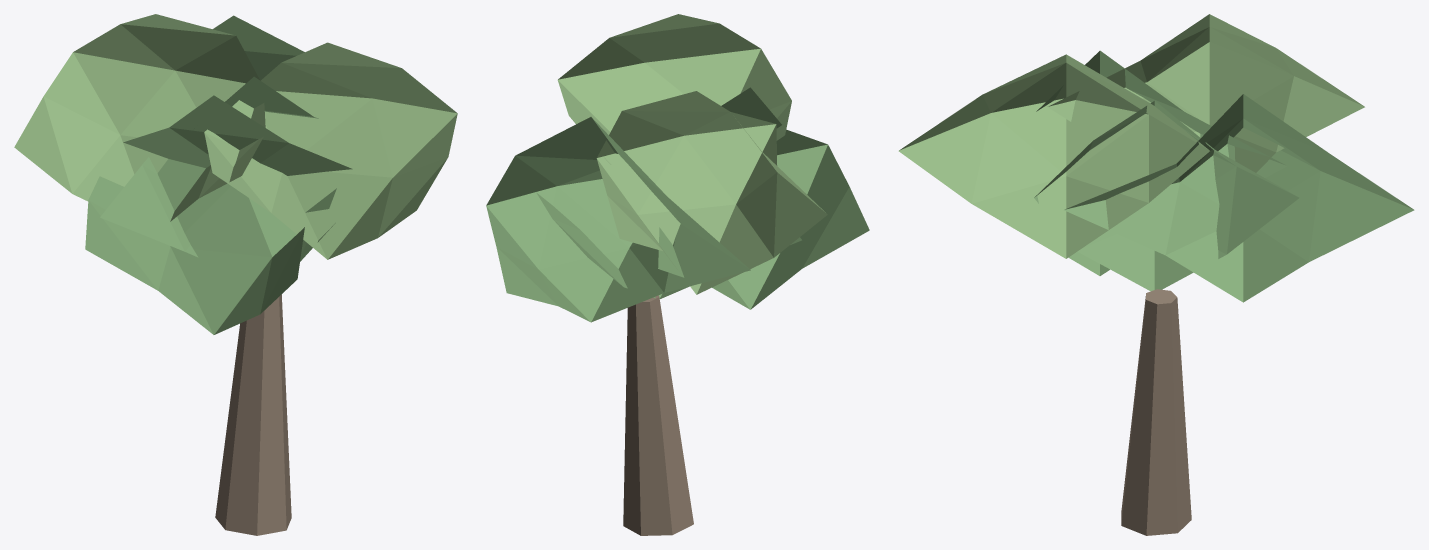
Rendered from broadleaf_v16.glb.
The picture shows the model from 3 angles, left to right: view 1: azimuth 30°, elevation 25°; view 2: azimuth 150°, elevation 25°; view 3: azimuth 270°, elevation 25°; orthographic projection. The views are drawn at different scales.
Parts seen in each view (by area): view 1: lod0; view 2: lod0; view 3: lod0.
Boxes of the visible parts, x1,y1,x2,y2 form: lod0: [14, 14, 457, 535]; lod0: [486, 14, 869, 535]; lod0: [898, 14, 1414, 535].
Size of what is drawn, in the model's own units: 3.88 by 5.14 by 5.02.
